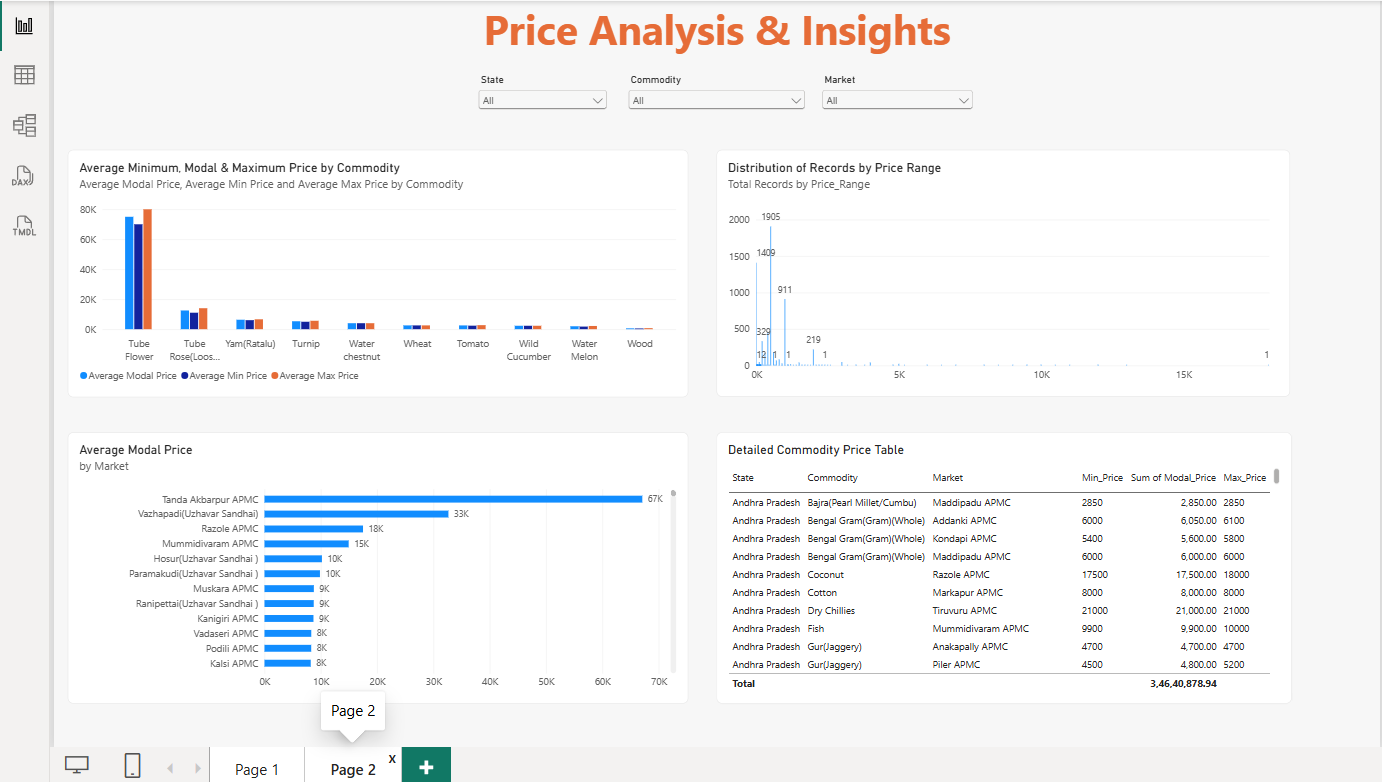

What the dashboard file says about the page in this screenshot:
{"tool":"powerbi","page":{"name":"Page 2","canvas":[1920,1080],"ordinal":1},"visuals":[{"type":"columnChart","title":"Distribution of Records by Price Range","fields":{"Category":["indian_agricultural_market_prices_cleaned(CSV).Price_Range"],"Y":["indian_agricultural_market_prices_cleaned(CSV).Total Records"]},"box":[960,215,830,357.5],"z":0},{"type":"clusteredColumnChart","title":"Average Minimum, Modal & Maximum Price by Commodity","fields":{"Category":["indian_agricultural_market_prices_cleaned(CSV).Commodity"],"Y":["indian_agricultural_market_prices_cleaned(CSV).Average Modal Price","indian_agricultural_market_prices_cleaned(CSV).Average Min Price","indian_agricultural_market_prices_cleaned(CSV).Average Max Price"]},"box":[20,215,898,358],"z":1},{"type":"tableEx","title":"Detailed Commodity Price Table","fields":{"Values":["indian_agricultural_market_prices_cleaned(CSV).State","indian_agricultural_market_prices_cleaned(CSV).Commodity","indian_agricultural_market_prices_cleaned(CSV).Market","indian_agricultural_market_prices_cleaned(CSV).Min_Price","Sum(indian_agricultural_market_prices_cleaned(CSV).Modal_Price)","indian_agricultural_market_prices_cleaned(CSV).Max_Price"]},"box":[960,625,832.5,392.5],"z":2},{"type":"textbox","box":[0,0,1920,125],"z":3},{"type":"clusteredBarChart","fields":{"Category":["indian_agricultural_market_prices_cleaned(CSV).Market"],"Y":["indian_agricultural_market_prices_cleaned(CSV).Average Modal Price"]},"box":[20,625,898,393],"z":4},{"type":"slicer","fields":{"Values":["indian_agricultural_market_prices_cleaned(CSV).State"]},"box":[610,105,195,65],"z":5},{"type":"slicer","fields":{"Values":["indian_agricultural_market_prices_cleaned(CSV).Commodity"]},"box":[827.5,105,265,65],"z":6},{"type":"slicer","fields":{"Values":["indian_agricultural_market_prices_cleaned(CSV).Market"]},"box":[1107.5,105,227.5,65],"z":7}]}

Visuals, with their boxes on the page's 1920x1080 design canvas (x1, y1, x2, y2). These are canvas units, not pixel positions in the 1382x782 screenshot, which may show the page scaled, cropped or inside an application window:
"Distribution of Records by Price Range" columnChart: <bbox>960, 215, 1790, 572</bbox>
"Average Minimum, Modal & Maximum Price by Commodity" clusteredColumnChart: <bbox>20, 215, 918, 573</bbox>
"Detailed Commodity Price Table" tableEx: <bbox>960, 625, 1792, 1018</bbox>
textbox: <bbox>0, 0, 1920, 125</bbox>
clusteredBarChart - indian_agricultural_market_prices_cleaned(CSV).Market x indian_agricultural_market_prices_cleaned(CSV).Average Modal Price: <bbox>20, 625, 918, 1018</bbox>
slicer - indian_agricultural_market_prices_cleaned(CSV).State: <bbox>610, 105, 805, 170</bbox>
slicer - indian_agricultural_market_prices_cleaned(CSV).Commodity: <bbox>828, 105, 1092, 170</bbox>
slicer - indian_agricultural_market_prices_cleaned(CSV).Market: <bbox>1108, 105, 1335, 170</bbox>
